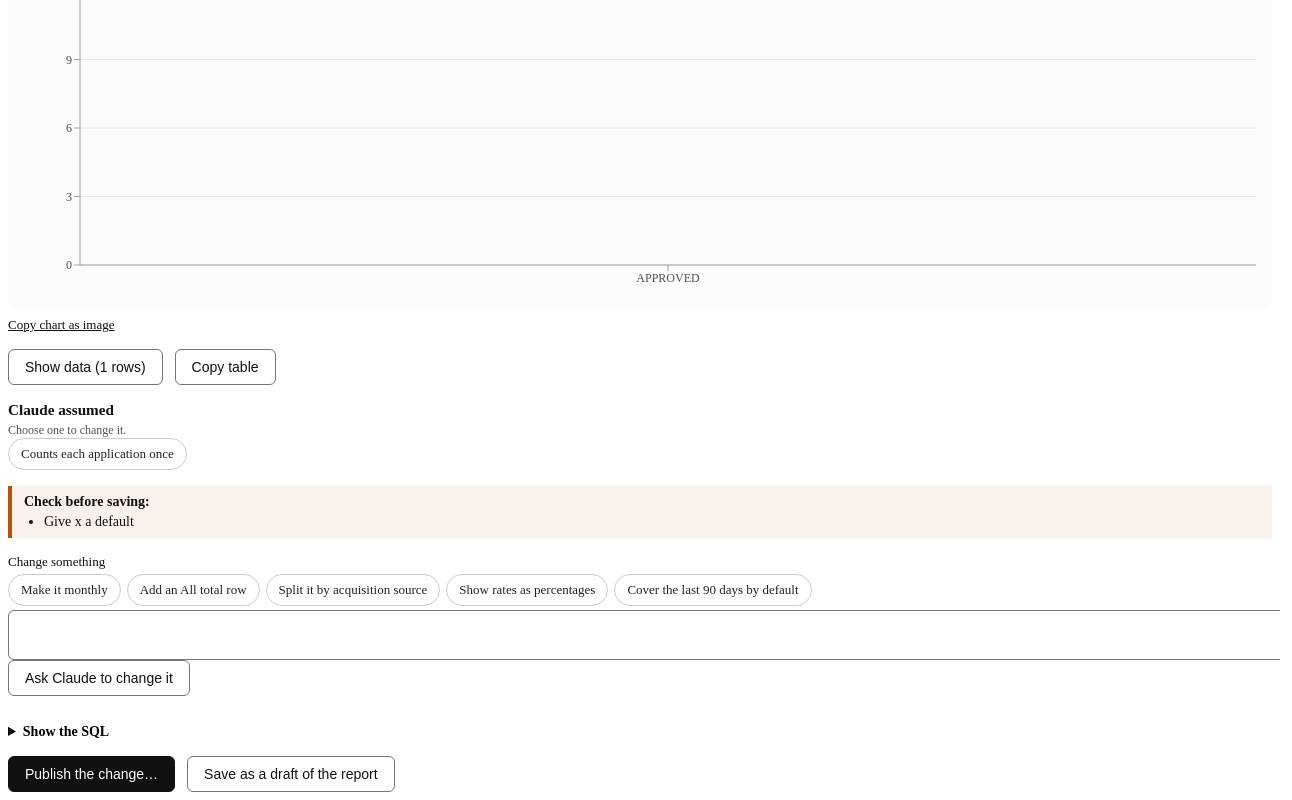
AskPanel › changes an existing report in place
The image size is (1292, 800).
(page scrolled)
Click the button "Save as a draft of the report": (291, 774) [187,756,395,792]
(page scrolled)
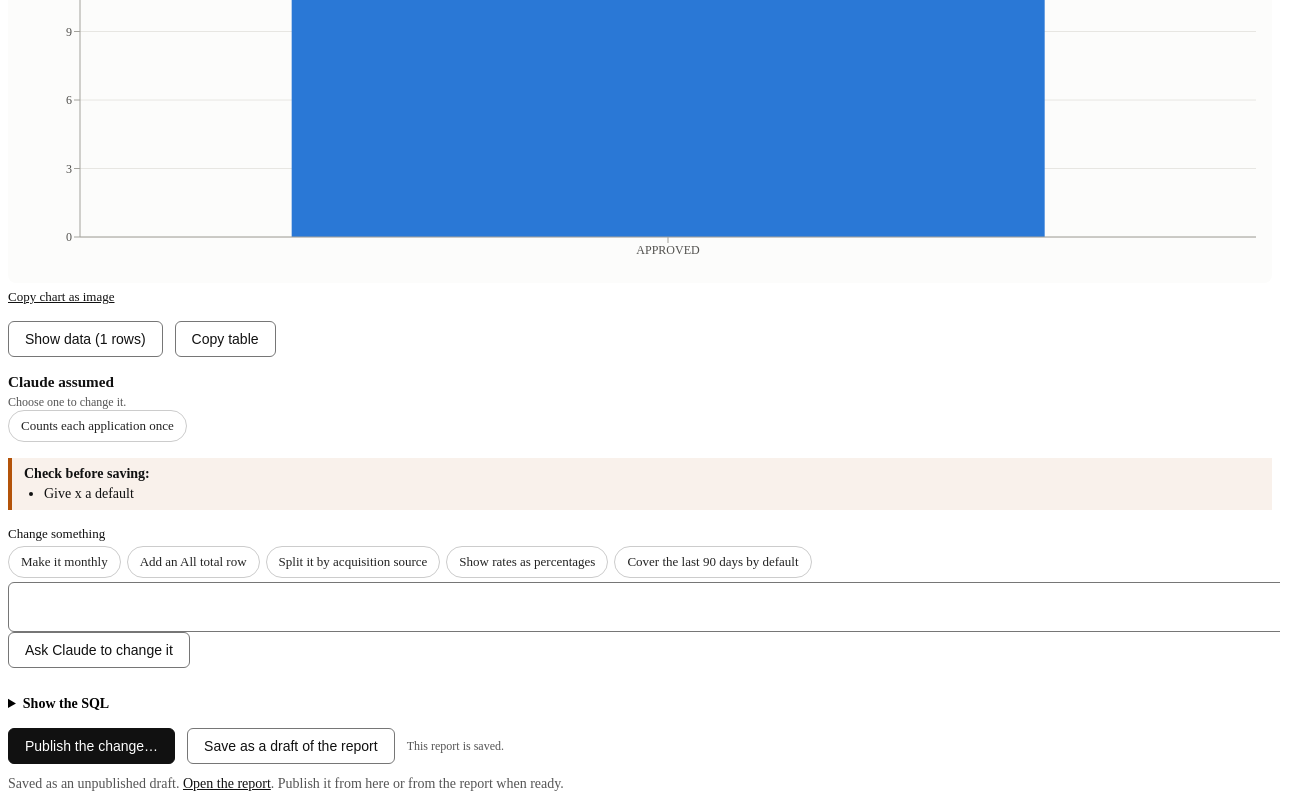
Now the element with test id "ask-saved" is shown, box [8,776,564,791]
